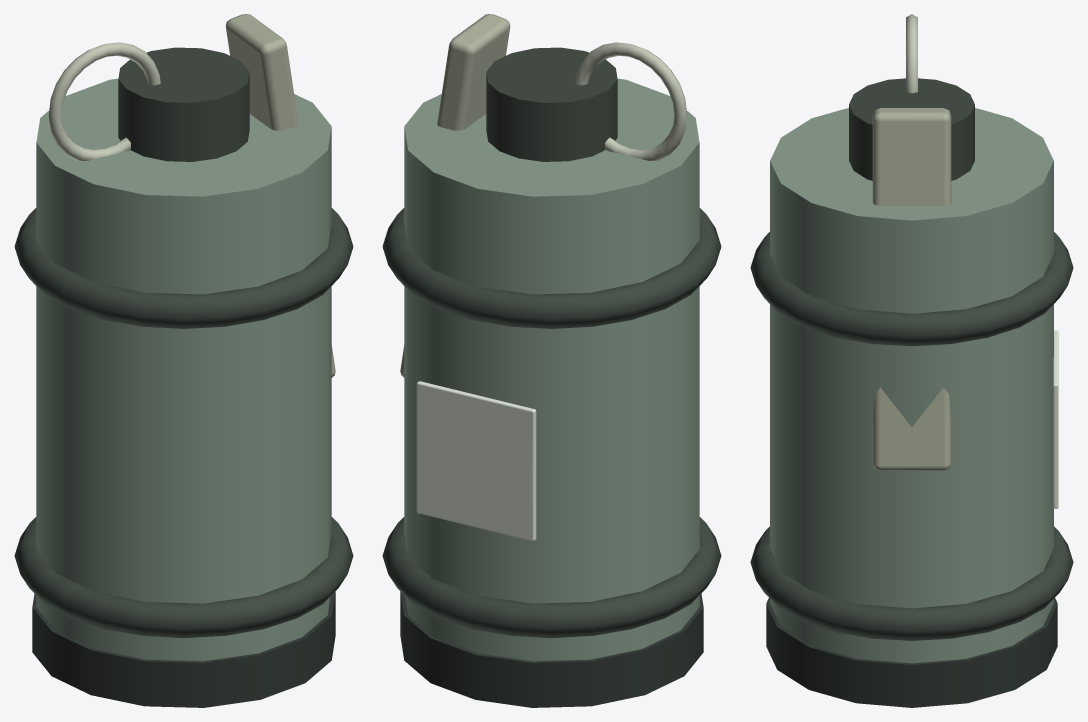
File: smoke.glb
The picture shows the model from 3 angles, left to right: view 1: azimuth 30°, elevation 25°; view 2: azimuth 150°, elevation 25°; view 3: azimuth 270°, elevation 25°; orthographic projection. The views are drawn at different scales.
Visible parts, largest first — view 1: smoke; view 2: smoke; view 3: smoke.
Boxes of the visible parts, box(x1,y1,x2,y2) form: smoke: box(14, 14, 353, 707); smoke: box(382, 14, 721, 707); smoke: box(750, 14, 1073, 707).
Size of the model in its own units: 0.164 by 0.3305 by 0.164.
